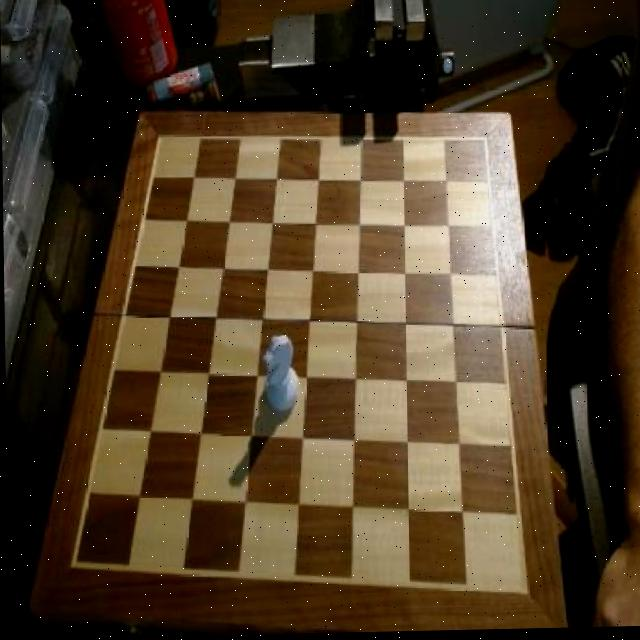white-king: (261, 333, 301, 414)
